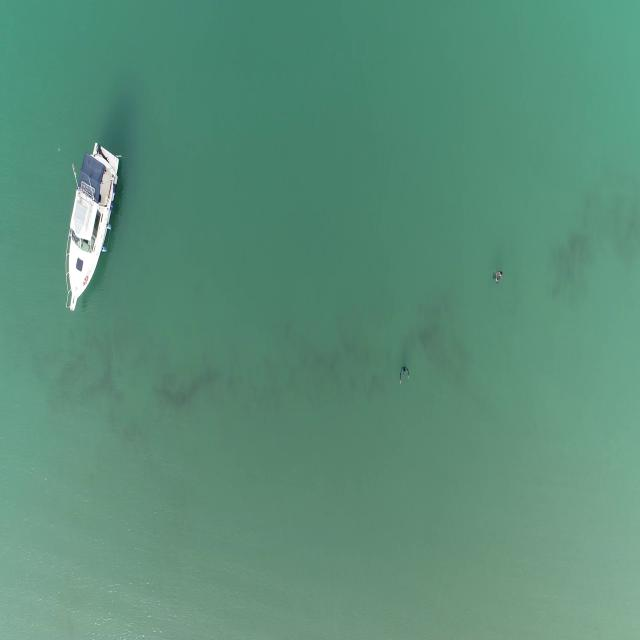boat: (60, 141, 121, 316)
person: (398, 364, 411, 387), (491, 266, 502, 290)
